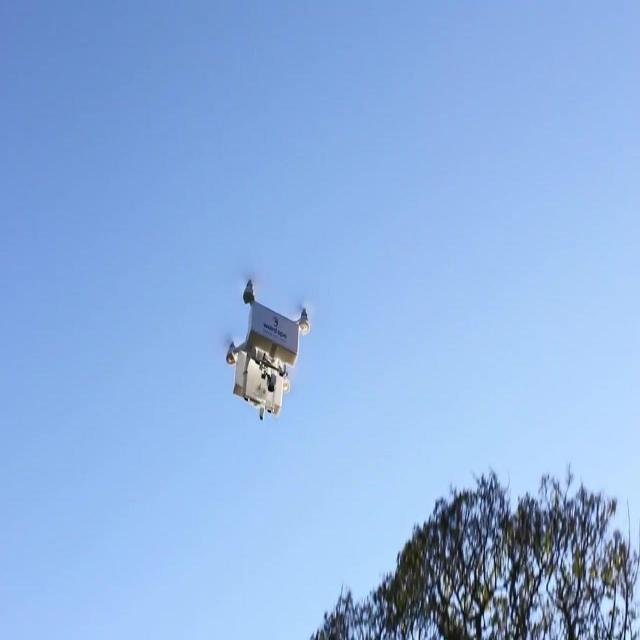UAV: (226, 279, 310, 421)
